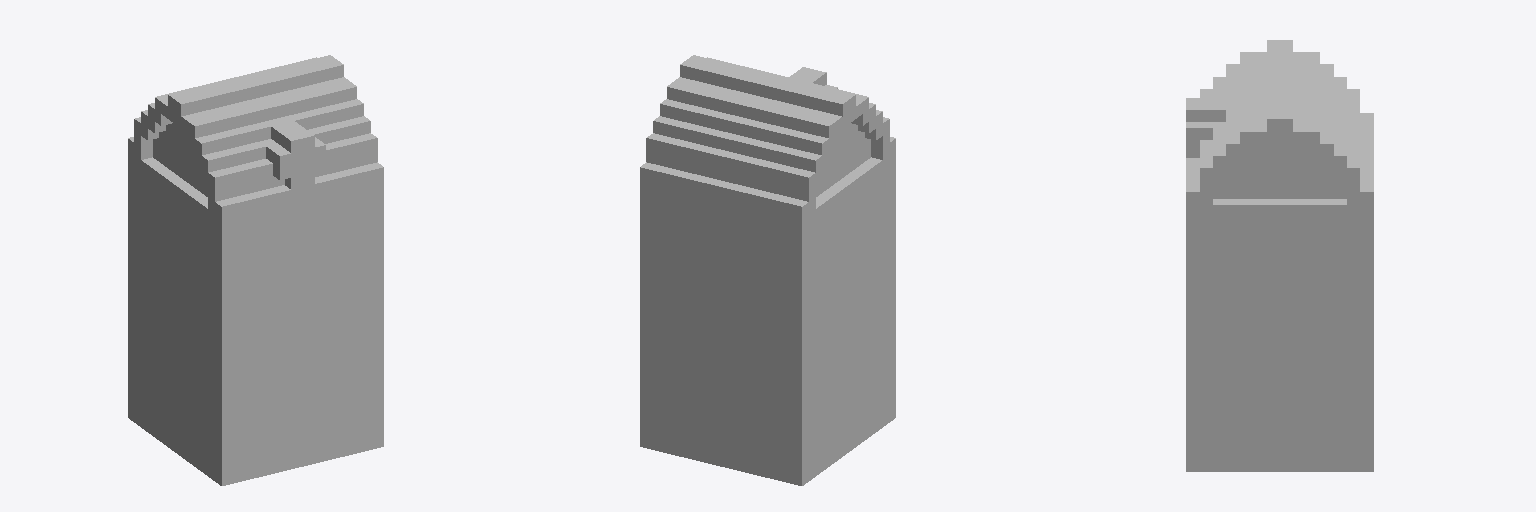
The model's file is Milk Carton.obj.
The picture shows the model from 3 angles: view 1: azimuth 30°, elevation 25°; view 2: azimuth 150°, elevation 25°; view 3: azimuth 270°, elevation 25°; orthographic projection.
Parts seen in each view (by area): view 1: Polygon; view 2: Polygon; view 3: Polygon.
Boxes of the visible parts, x1,y1,x2,y2 form: Polygon: [128, 55, 383, 485]; Polygon: [640, 55, 895, 485]; Polygon: [1186, 40, 1373, 471].
Bounding box in the file's own units: 1.4 × 2.9 × 1.4.